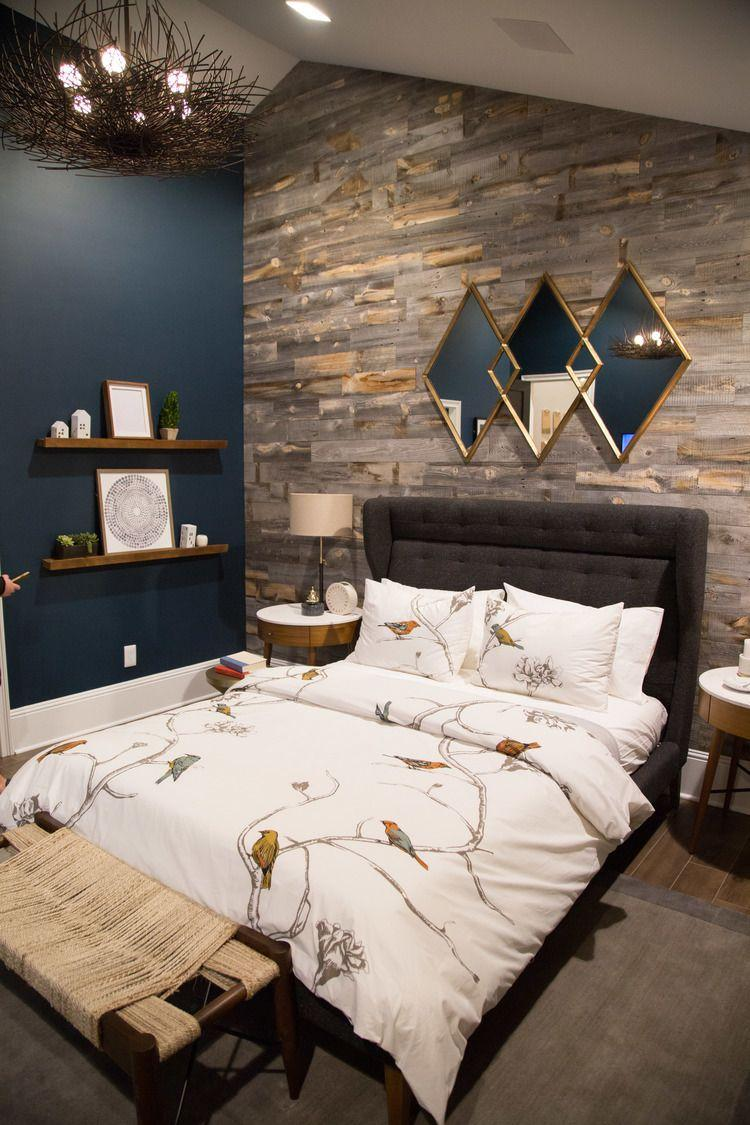bed: (25, 490, 750, 1030)
